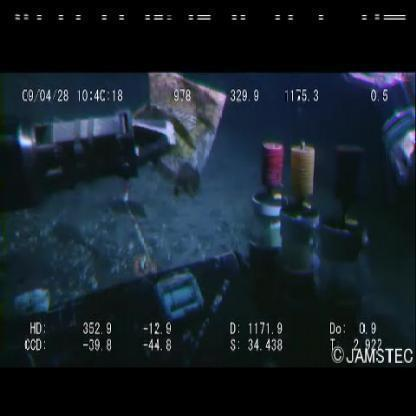Rác: (135, 73, 229, 197)
